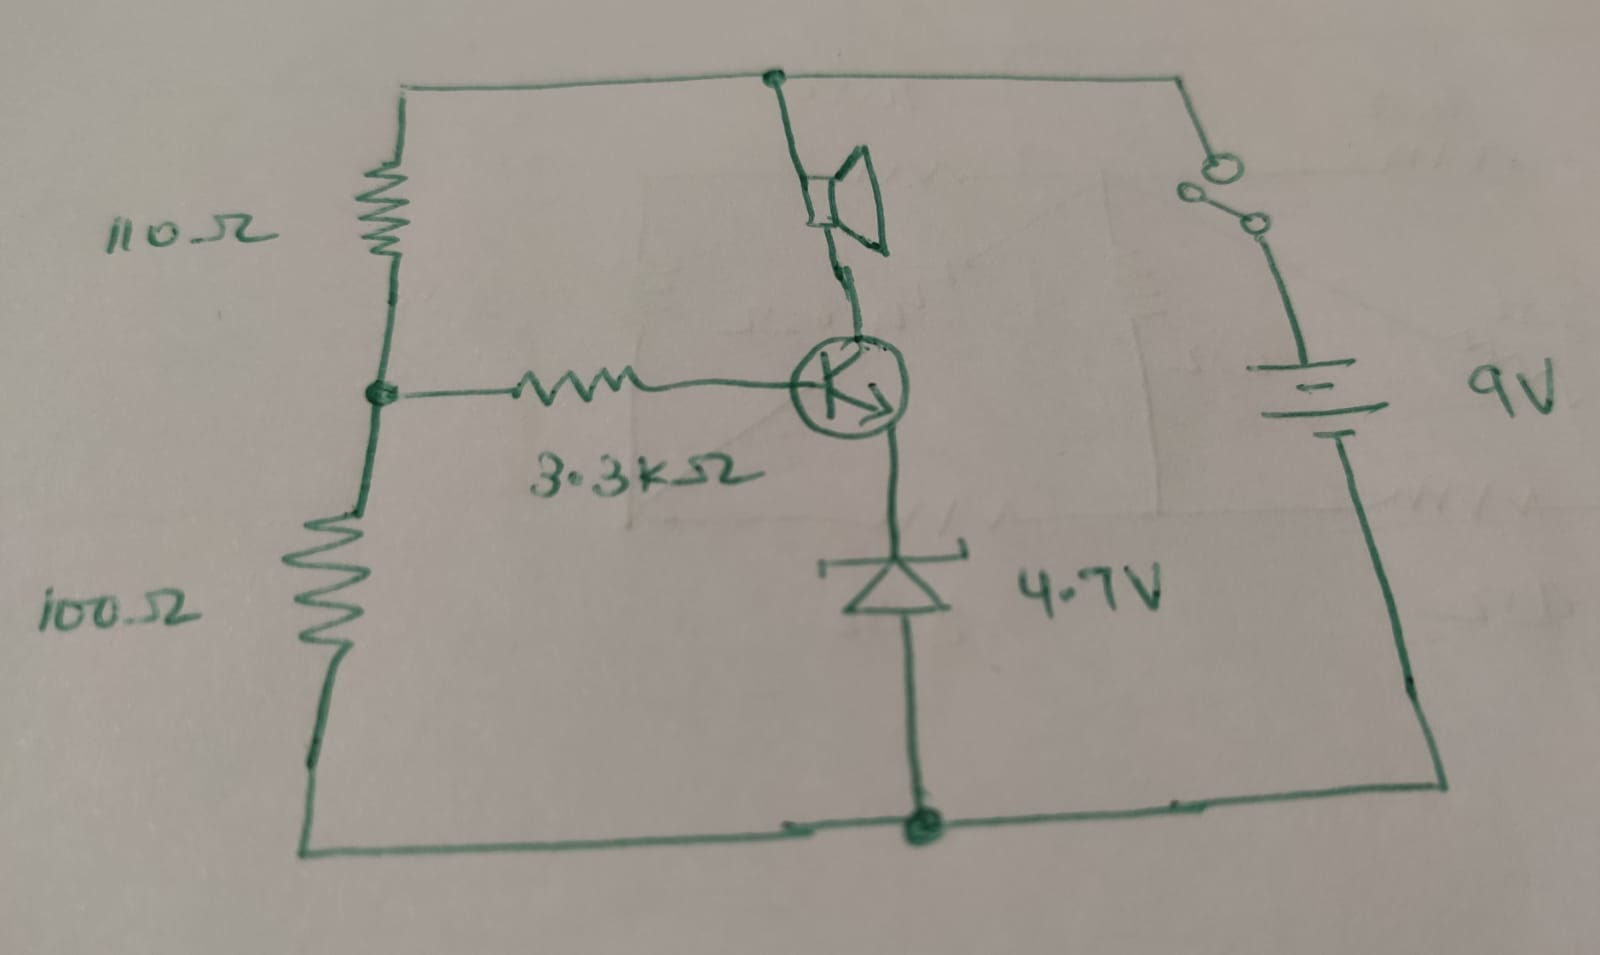diode: (816, 537, 970, 618)
junction: (885, 792, 966, 855), (363, 375, 406, 412), (286, 834, 324, 873), (755, 66, 792, 97), (1162, 64, 1194, 94), (1427, 769, 1457, 802), (389, 77, 417, 105)
resistor: (284, 499, 375, 656), (503, 362, 657, 407), (353, 153, 414, 261)
speaker: (797, 140, 888, 259)
switch: (1170, 147, 1274, 238)
text: (525, 446, 766, 501), (1013, 564, 1168, 618), (37, 586, 205, 636), (100, 210, 284, 252), (1469, 356, 1558, 417)
transistor: (786, 329, 913, 441)
voltage.dc: (1245, 352, 1390, 447)
